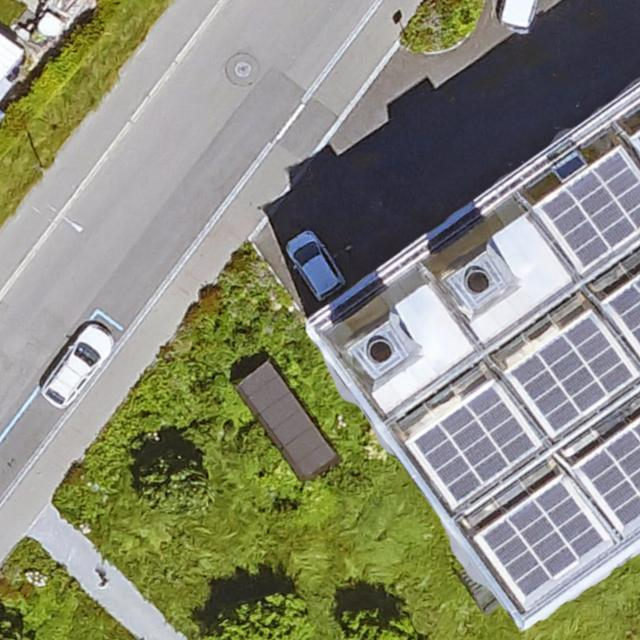tree: (206, 588, 312, 640), (136, 451, 211, 517), (336, 599, 426, 640)
